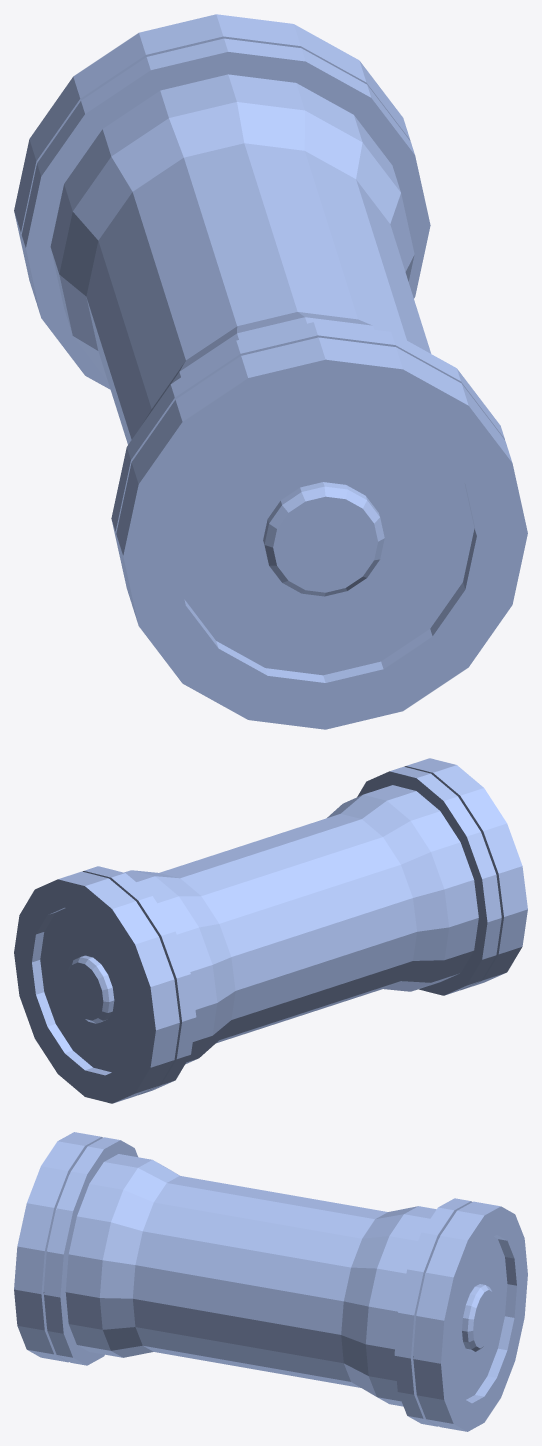
Rendered from Pipeline_twoCovers.fbx.
3 renders of one model, top to bottom at view 1: azimuth 30°, elevation 25°; view 2: azimuth 150°, elevation 25°; view 3: azimuth 270°, elevation 25°, orthographic. The views are drawn at different scales.
Parts seen in each view (by area): view 1: 柱体.046; view 2: 柱体.046; view 3: 柱体.046.
Part boxes in pixels (<box>): 柱体.046: <box>14,14,527,729</box>; 柱体.046: <box>14,758,527,1103</box>; 柱体.046: <box>14,1132,527,1431</box>.
Size of the model in its own units: 386 by 512 by 228.
